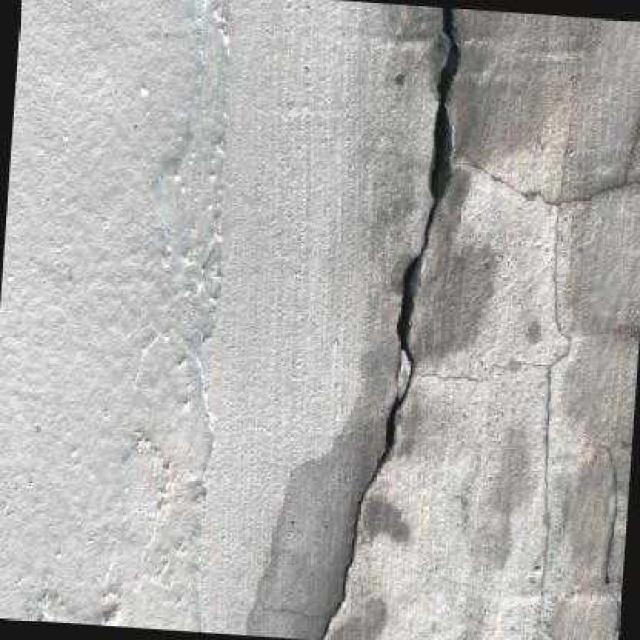D00: (315, 7, 461, 640)
